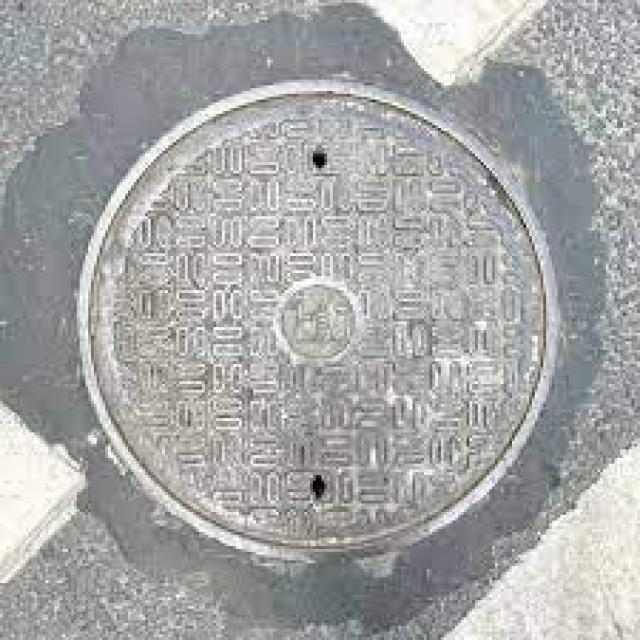manhole: (79, 81, 555, 553)
